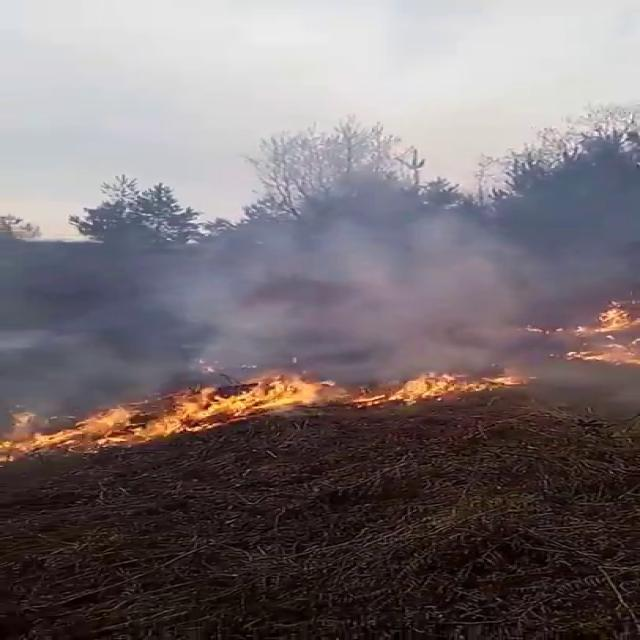Fire: (4, 360, 532, 460), (559, 296, 640, 368)
Smoke: (4, 113, 640, 387)
